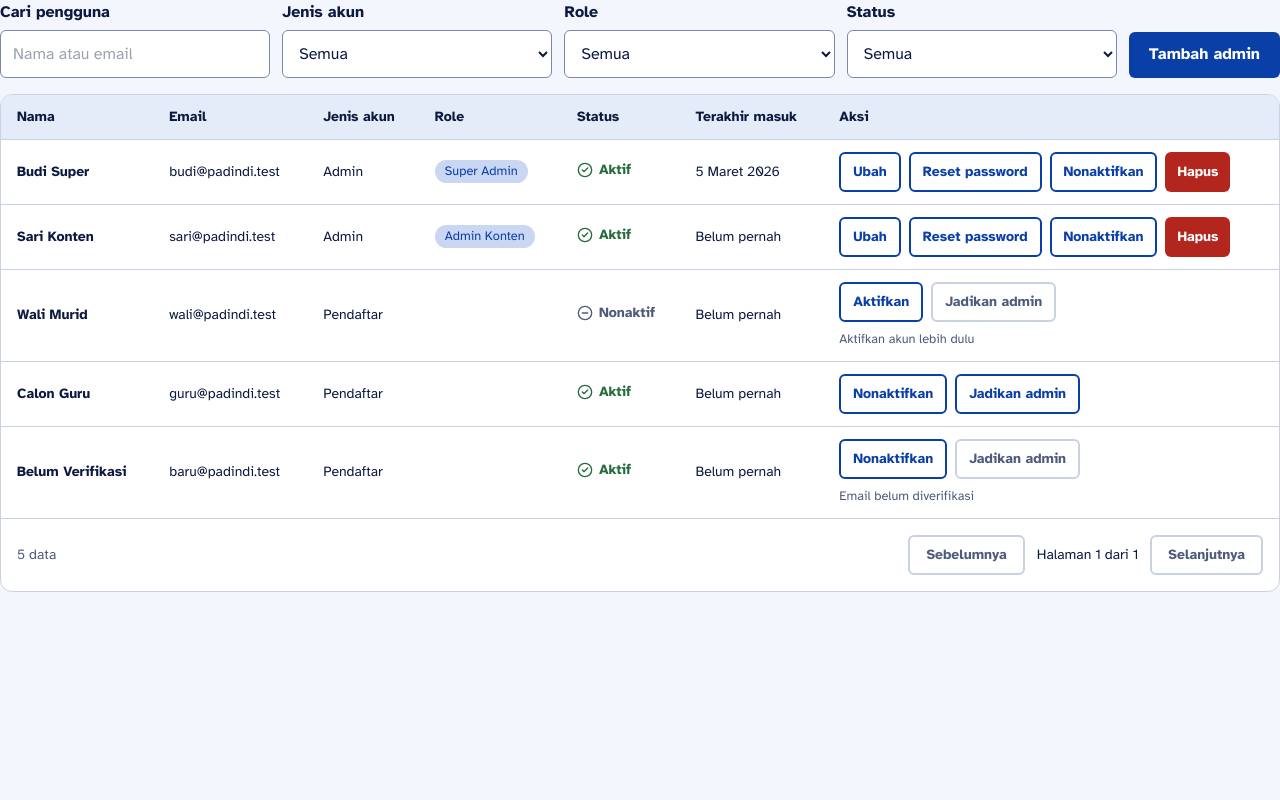
Scenario: UsersTab — aksi per baris › Nonaktifkan meminta konfirmasi; Batal tidak mengirim apa pun
What coordinates should you click on to do the following:
click the button "Nonaktifkan" in the row of "Sari Konten"
I would click on:
 (1103, 237)
Its box is [1050,217,1157,257].
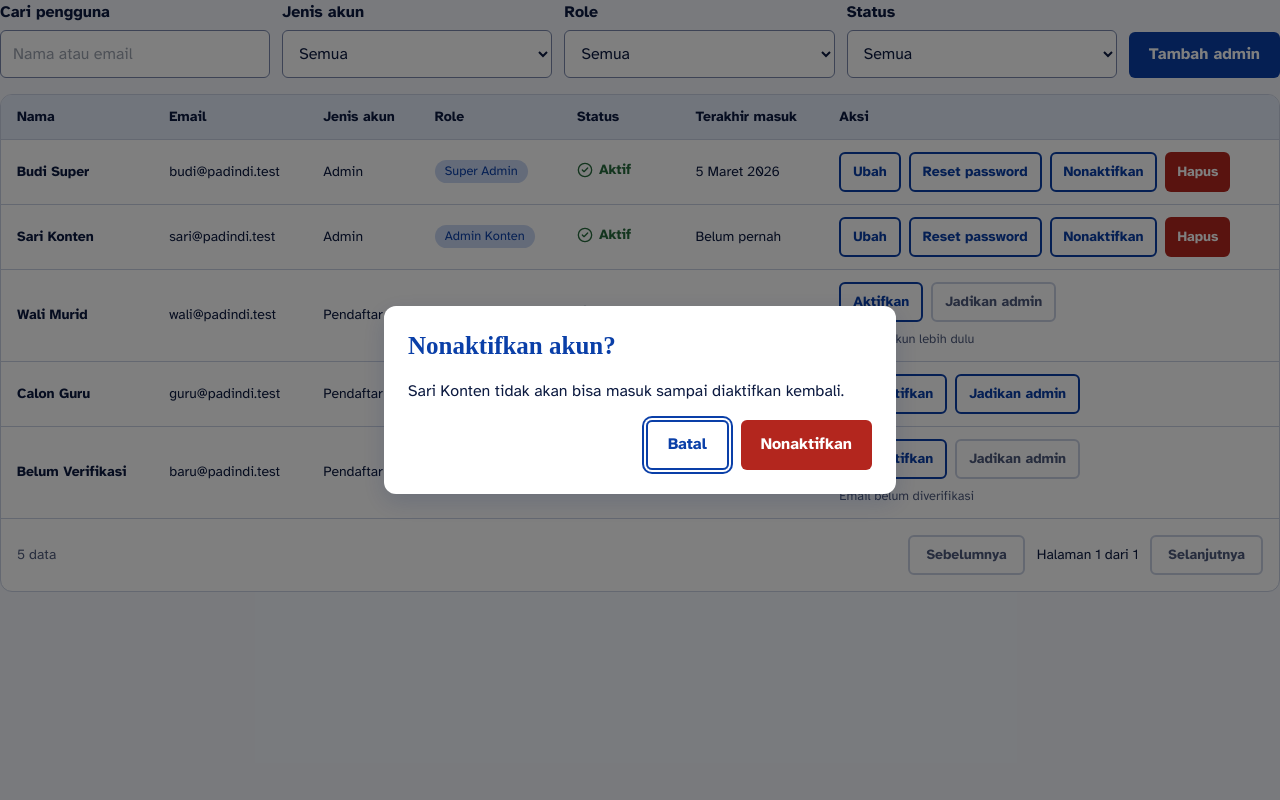
What coordinates should you click on to do the following:
click the button "Batal"
I would click on:
 (687, 445)
Its box is [646,420,729,470].
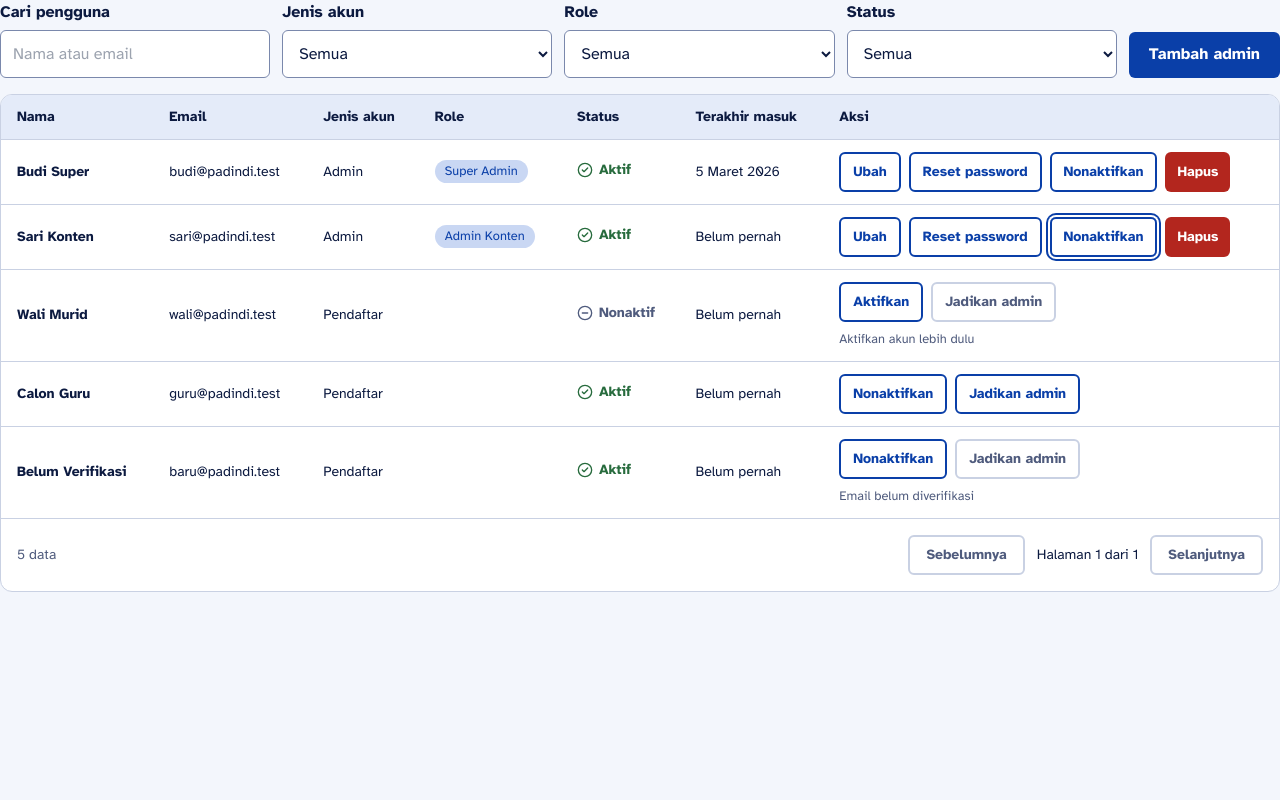
Expected: the dialog is gone
